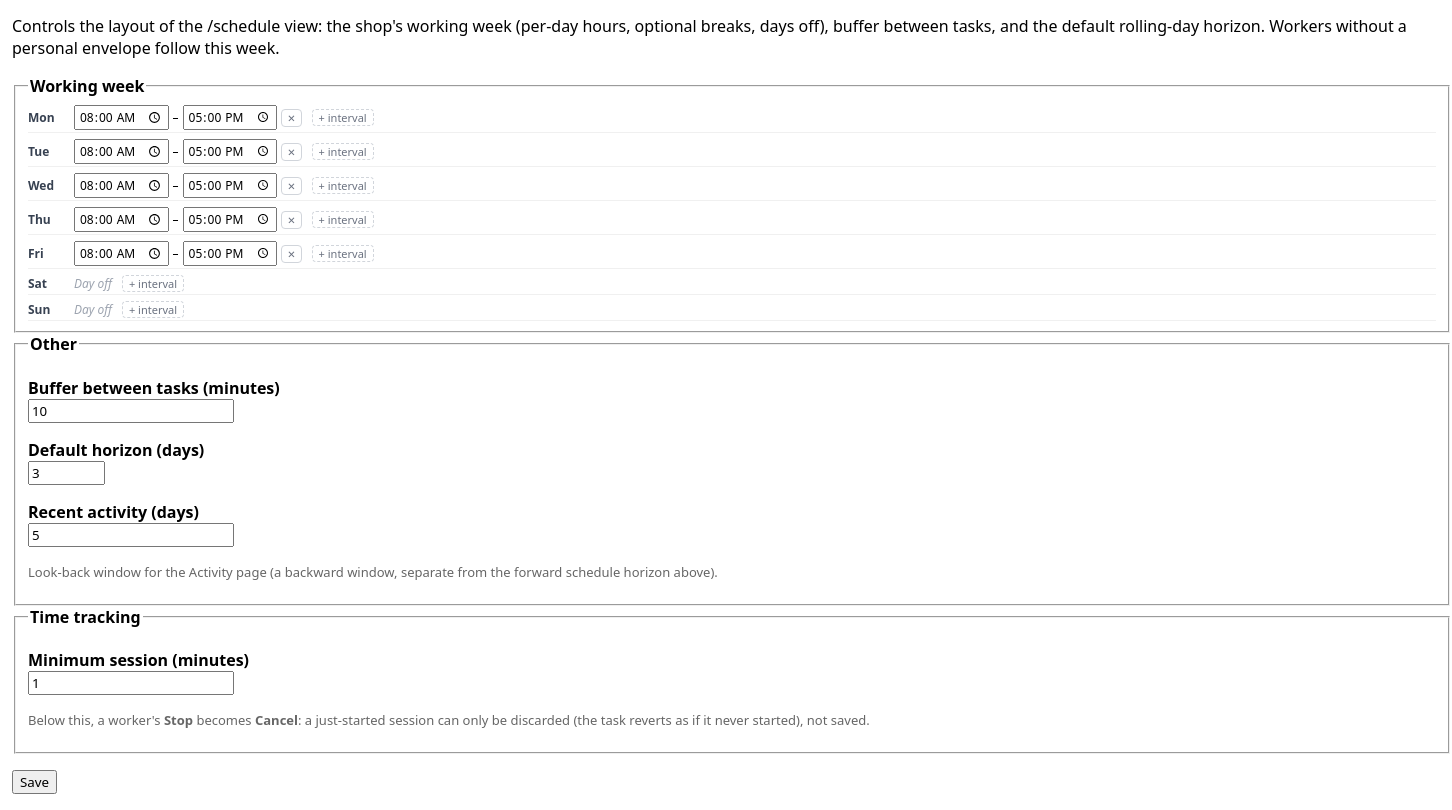
Scenario: ScheduleSettings › surfaces a field error for activity_recent_days
(page scrolled)
Click the button "Save": (35, 782) [12, 770, 57, 794]
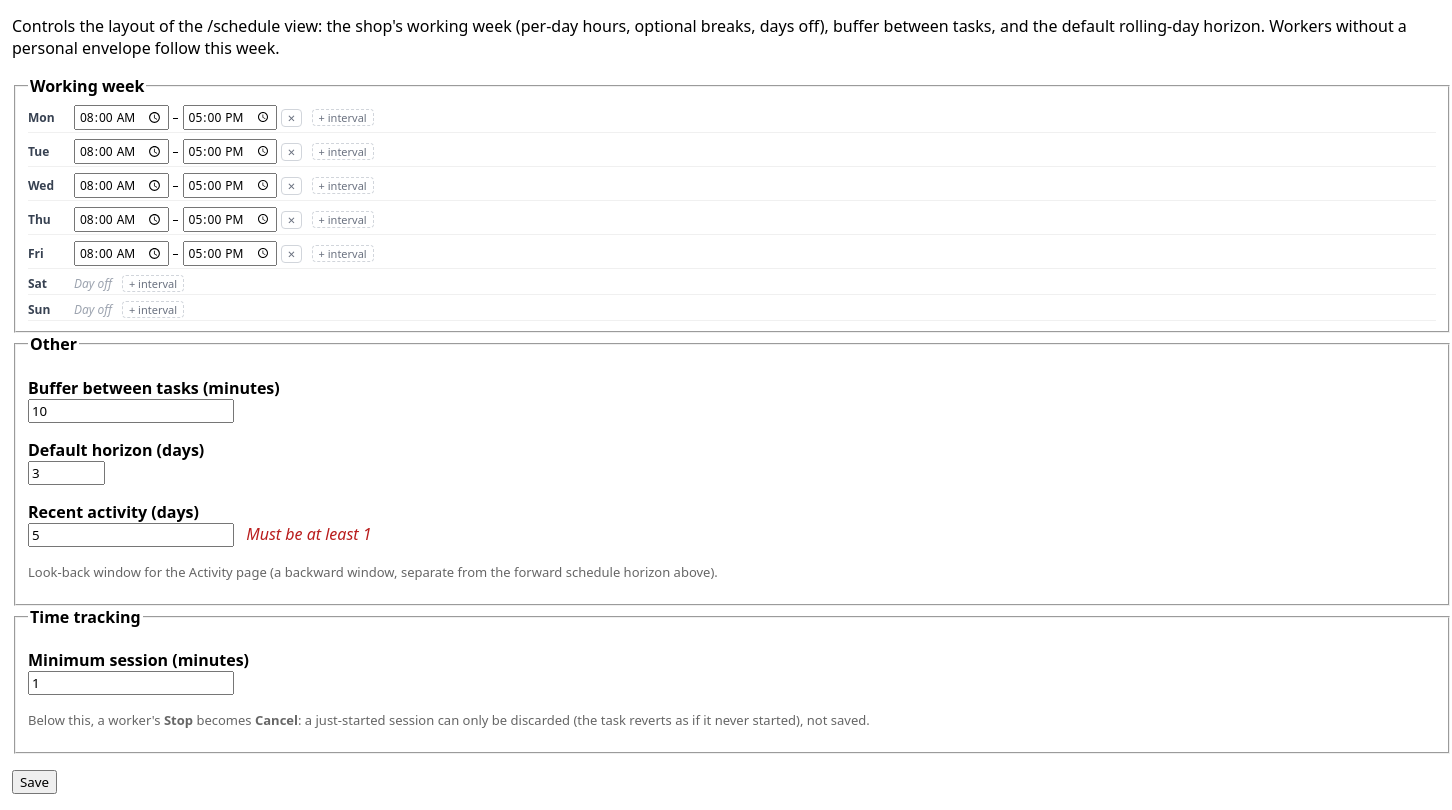
Expected: the text "Must be at least 1" is shown, [246, 523, 372, 545]
